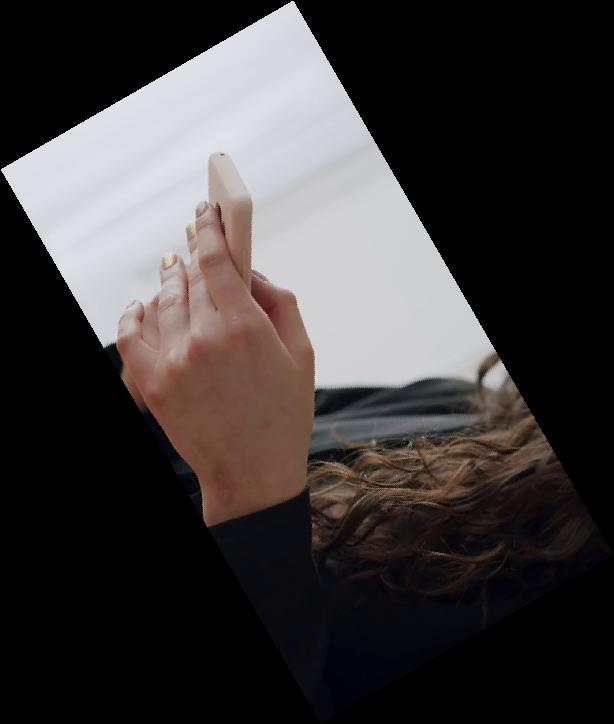phone: (202, 147, 257, 298)
